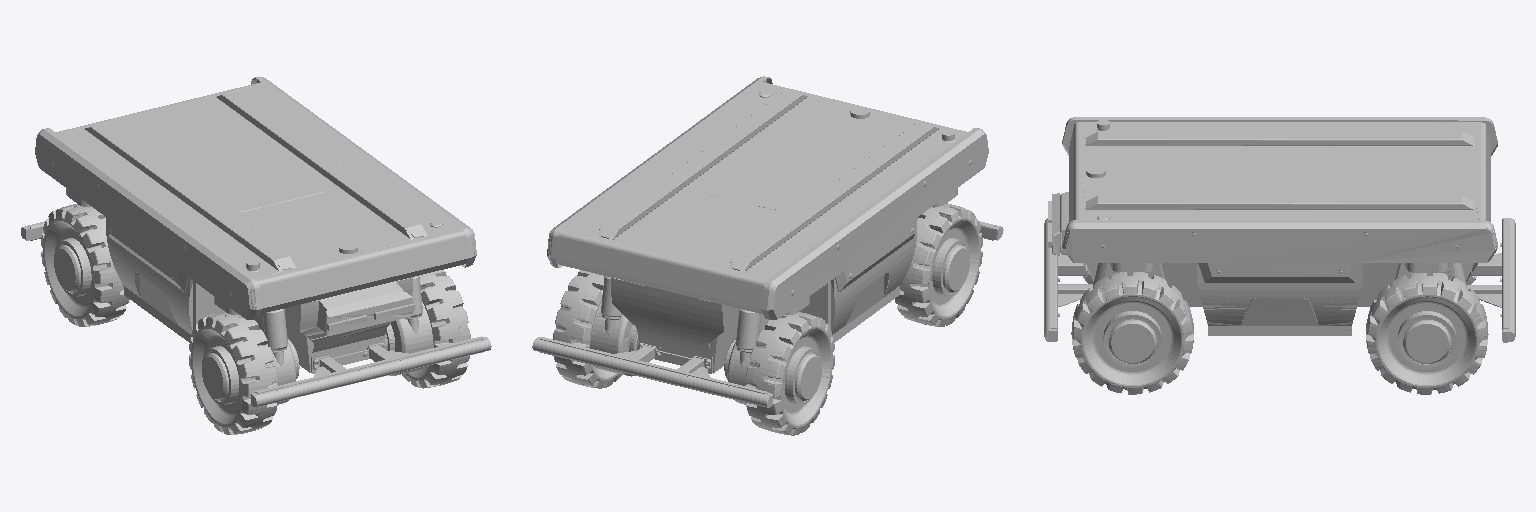
robot.urdf — yhs_chassis_description:
<robot name="yhs_chassis_description">
  <link name="base_link">
    <visual>
      <origin
        xyz="-0.34 0.275 0"
        rpy="1.57 0 0" />
      <geometry>
        <mesh
          filename="package://yhs_chassis_description/meshes/FW-max.STL"/>
      </geometry>
      <material
        name="">
        <color
          rgba="0.8 0.8 0.8 1" />
      </material>
    </visual>
  </link>
</robot>

--- What the picture shows (computed from the rendered views, not written in the file) ---
Views: 3 orthographic renders of the robot side by side, from view 1: azimuth 30°, elevation 25°; view 2: azimuth 150°, elevation 25°; view 3: azimuth 270°, elevation 25°.
Robot: yhs_chassis_description — 1 links, 0 joints (none); root link base_link; default pose: all joints at 0.
Links seen in each view (by area): view 1: base_link; view 2: base_link; view 3: base_link.
Boxes of the visible links, <box> form: base_link: <box>21,77,491,434</box>; base_link: <box>532,76,1003,435</box>; base_link: <box>1044,117,1515,394</box>.
Size in the robot's own frame: 0.55 by 0.96 by 0.3935 metres.
1 mesh visuals loaded from 1 distinct referenced files (1 binary STL).
